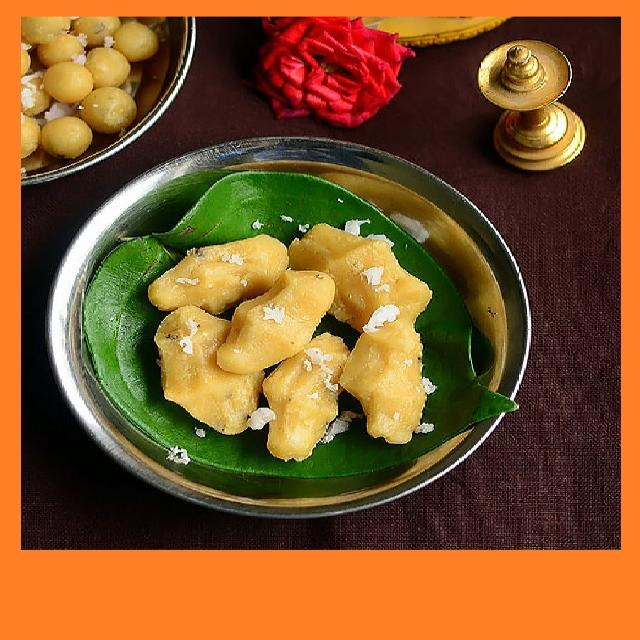pidi kolukattai: (118, 206, 455, 461)
